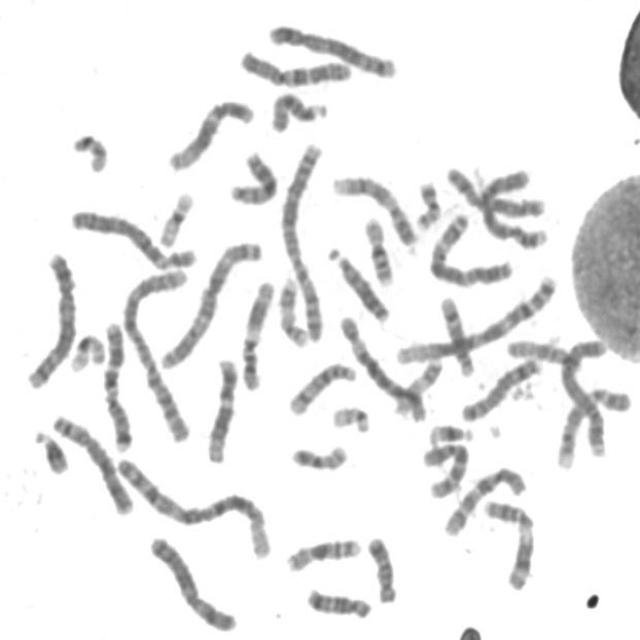A1: (111, 449, 276, 561), (391, 267, 562, 366)
A2: (118, 261, 196, 444), (276, 134, 330, 346)
A3: (157, 232, 266, 371), (424, 206, 519, 289)
B4: (556, 331, 611, 467), (474, 159, 552, 251)
B5: (264, 16, 402, 80), (22, 245, 80, 390)
C10: (438, 459, 530, 538), (419, 435, 473, 500)
C11: (479, 492, 538, 592), (236, 273, 278, 392)
C12: (164, 90, 258, 173), (202, 351, 242, 465)
C6: (335, 307, 430, 422), (66, 202, 200, 272)
C7: (98, 312, 136, 453), (236, 47, 356, 90)
C8: (47, 407, 137, 518), (457, 350, 545, 424)
C9: (328, 167, 423, 252), (553, 378, 636, 472)
D13: (323, 239, 394, 325), (225, 144, 282, 207)
D14: (285, 355, 360, 417), (434, 287, 480, 378)
D15: (502, 332, 587, 372), (266, 85, 332, 134)
E16: (282, 530, 365, 575), (359, 208, 398, 288)
E17: (391, 351, 446, 418), (274, 269, 312, 348)
E18: (302, 580, 376, 620), (364, 529, 402, 606)
F19: (154, 183, 198, 249), (66, 328, 108, 374)
F20: (287, 436, 353, 473), (410, 173, 446, 232)
G21: (29, 422, 73, 477), (424, 417, 477, 445)
G22: (68, 126, 112, 175), (328, 398, 375, 434)
X: (145, 529, 242, 634), (442, 159, 548, 220)
